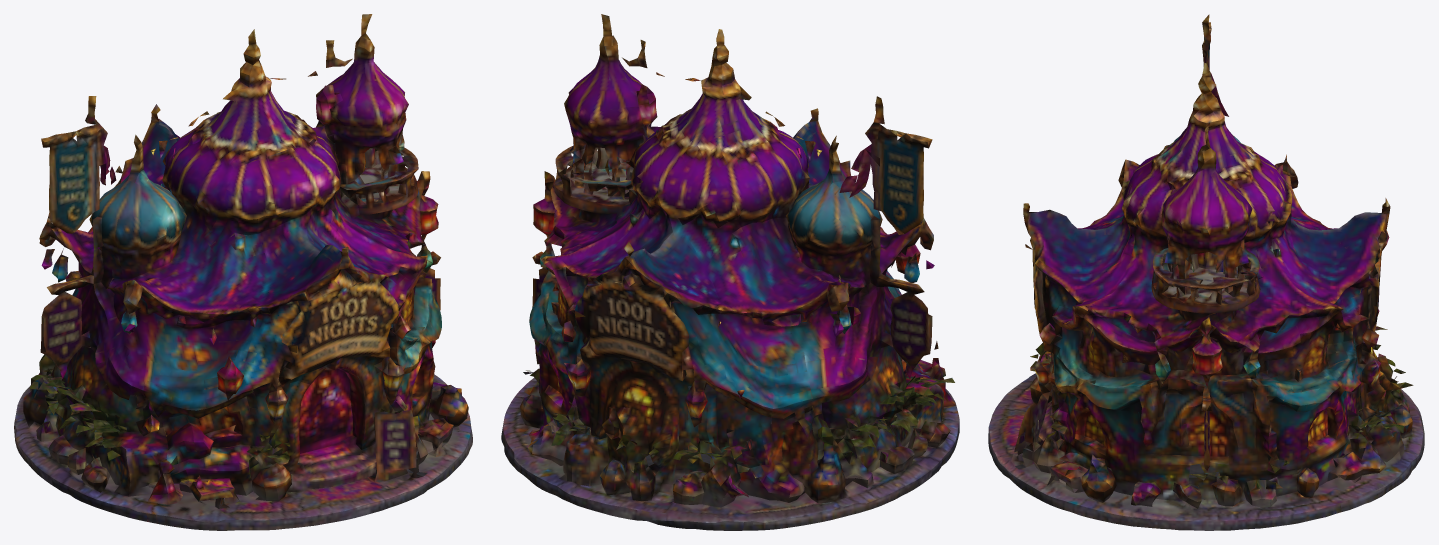
File: 1001_nights.glb
3 renders of one model, left to right at view 1: azimuth 30°, elevation 25°; view 2: azimuth 150°, elevation 25°; view 3: azimuth 270°, elevation 25°, orthographic. The views are drawn at different scales.
Visible parts, largest first — view 1: output; view 2: output; view 3: output.
Boxes of the visible parts, x1,y1,x2,y2 form: output: (14, 14, 472, 530); output: (501, 14, 959, 530); output: (988, 14, 1424, 530).
Size of the model in its own units: 2.01 by 1.93 by 2.
Materials: 1 (1 with a texture image).
